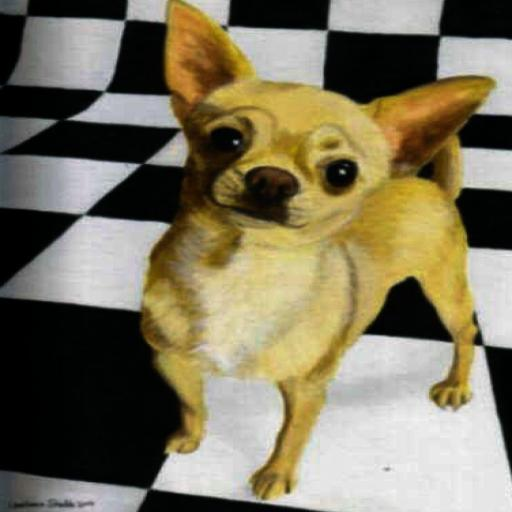dog_face: (143, 8, 487, 228)
